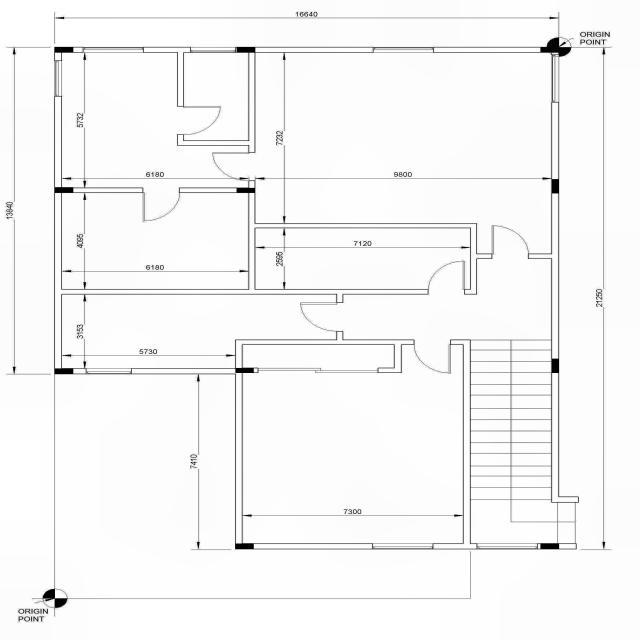Column: (552, 178, 560, 194), (552, 358, 560, 374), (540, 47, 560, 53), (54, 368, 74, 374), (54, 187, 74, 193), (54, 47, 74, 53), (540, 544, 559, 550), (235, 544, 254, 550), (237, 47, 256, 53), (237, 187, 256, 193), (236, 368, 253, 373)
Door: (412, 338, 453, 374), (426, 260, 467, 295), (176, 105, 222, 136), (490, 225, 530, 260), (212, 151, 256, 182), (300, 302, 344, 333), (142, 187, 180, 222)
Sliding Door: (256, 366, 381, 374)
Staircase: (466, 338, 582, 542)
Window: (370, 542, 434, 550), (82, 46, 145, 54), (372, 46, 434, 54), (551, 54, 560, 104), (476, 543, 538, 550), (190, 46, 237, 54), (54, 59, 63, 98), (85, 368, 132, 374)
